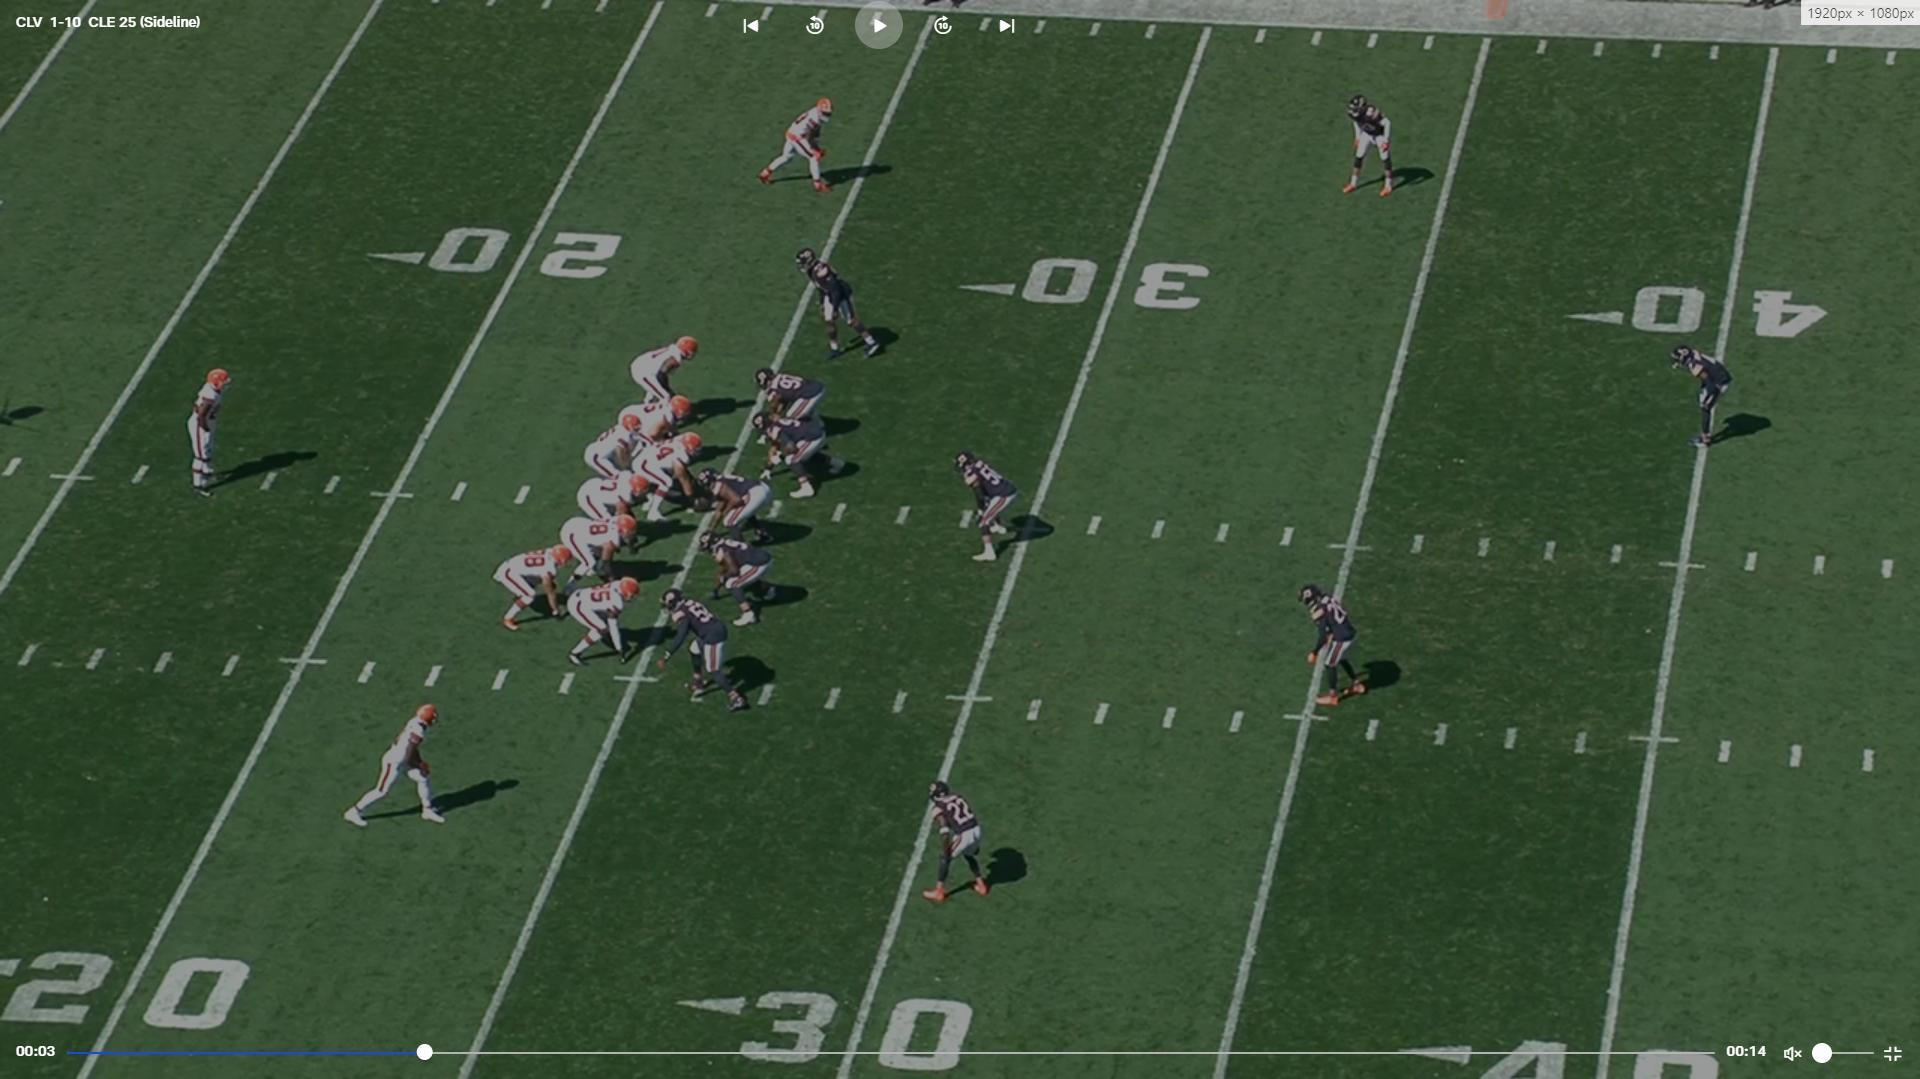defense: (658, 581, 744, 711), (924, 774, 1002, 909), (799, 253, 889, 369), (1302, 580, 1375, 715), (751, 414, 847, 502), (951, 446, 1016, 566), (1339, 87, 1404, 204), (1671, 338, 1737, 453), (703, 533, 781, 630), (700, 465, 776, 546), (756, 363, 838, 436)
oline: (635, 432, 706, 522), (554, 513, 632, 593), (575, 471, 647, 544), (630, 333, 702, 402), (619, 395, 692, 448)
qb: (587, 421, 647, 482)
skill: (342, 702, 454, 834), (754, 96, 840, 198), (496, 544, 578, 636), (569, 578, 648, 668), (186, 363, 237, 498)
